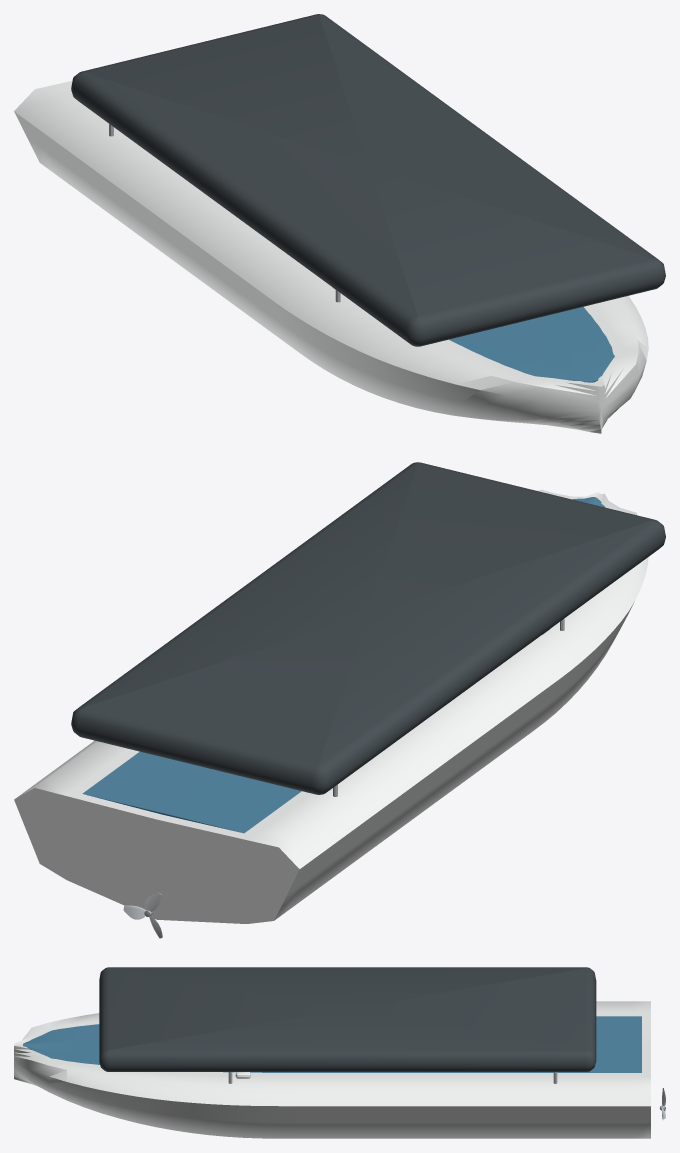
The model's file is powerboat-racing-and-launch-ramp-bowrider-covered-5cb0c9a9__22310.glb.
3 views of the same model, one above another, from view 1: azimuth 30°, elevation 25°; view 2: azimuth 150°, elevation 25°; view 3: azimuth 270°, elevation 25° (orthographic). The views are drawn at different scales.
Visible parts, largest first — view 1: bowrider-covered; view 2: bowrider-covered; view 3: bowrider-covered.
Boxes of the visible parts, bbox=[...] form: bowrider-covered: bbox=[14, 14, 665, 433]; bowrider-covered: bbox=[14, 462, 665, 923]; bowrider-covered: bbox=[14, 967, 650, 1138].
Bounding box in the file's own units: 2.34 × 1.26 × 6.45.
